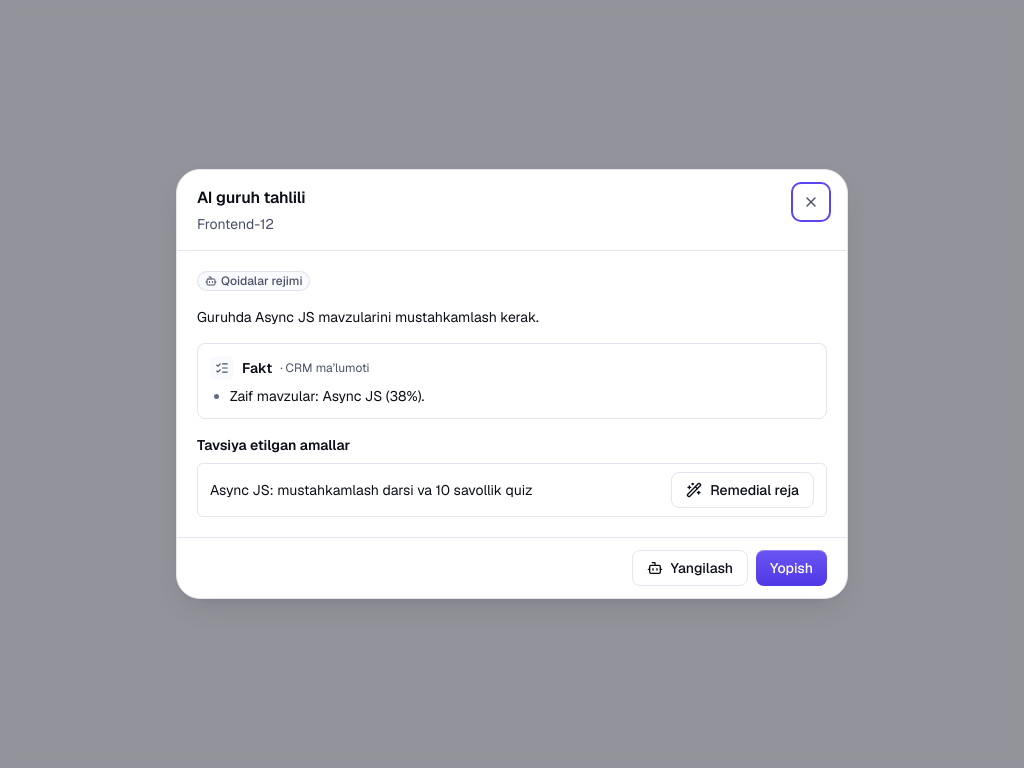
Test: GroupAiModal › zaif mavzu → remedial reja → tasdiqlash: qoralama vazifa va quiz
The image size is (1024, 768).
Expected: the text "Guruhda Async JS mavzularini mustahkamlash kerak." is shown, left=197, top=308, right=539, bottom=326
Expected: the text "Qoidalar rejimi" is shown, left=197, top=271, right=310, bottom=291
Click the button "Remedial reja" at [743, 490], box left=671, top=472, right=814, bottom=508
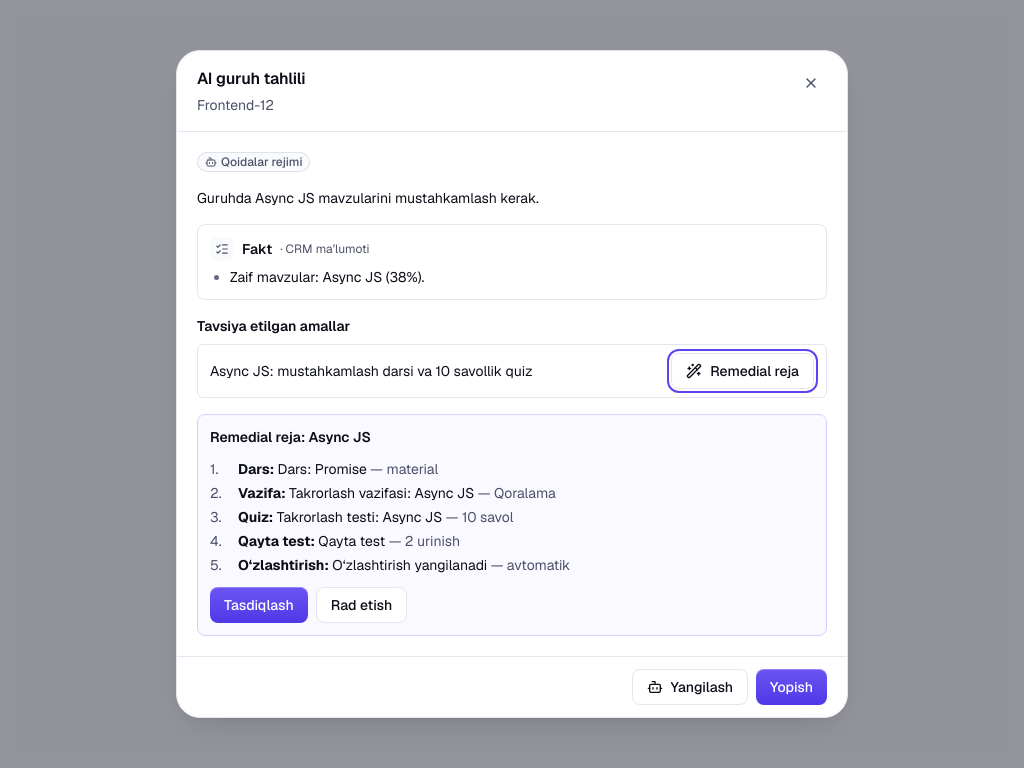
Result: the element "Remedial reja" shows "Quiz: Takrorlash testi: Async JS" at left=197, top=414, right=827, bottom=636
Click the button "Tasdiqlash" at [259, 605], box left=210, top=587, right=308, bottom=623
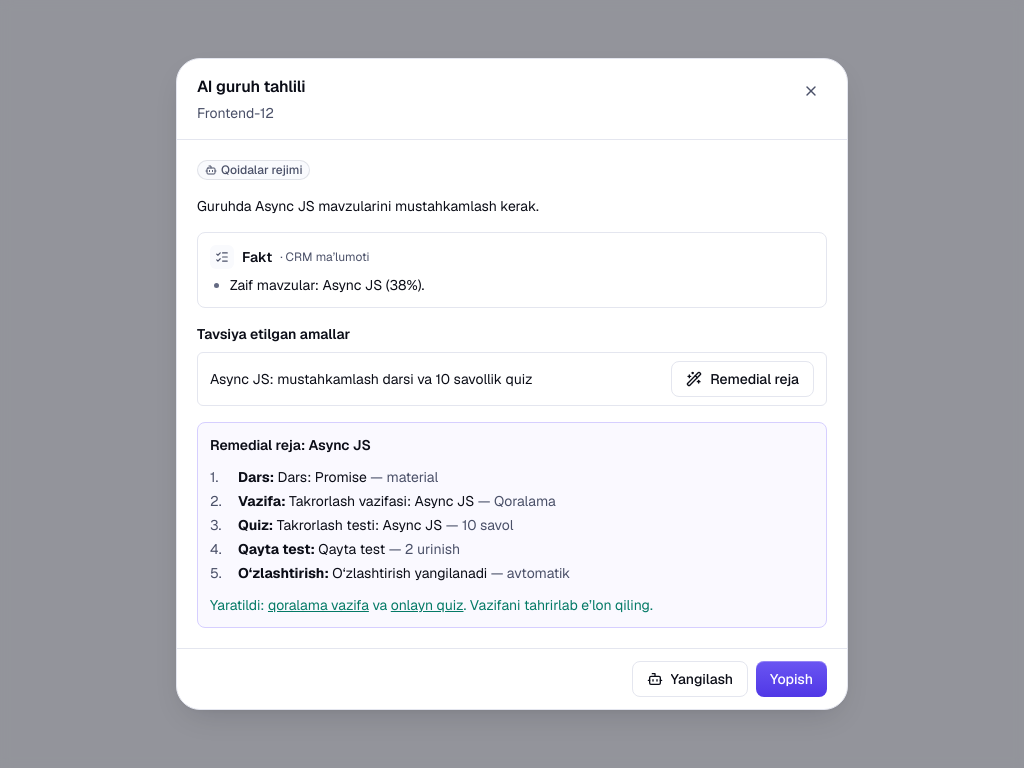
Result: the link "onlayn quiz" is shown at left=391, top=596, right=464, bottom=614
